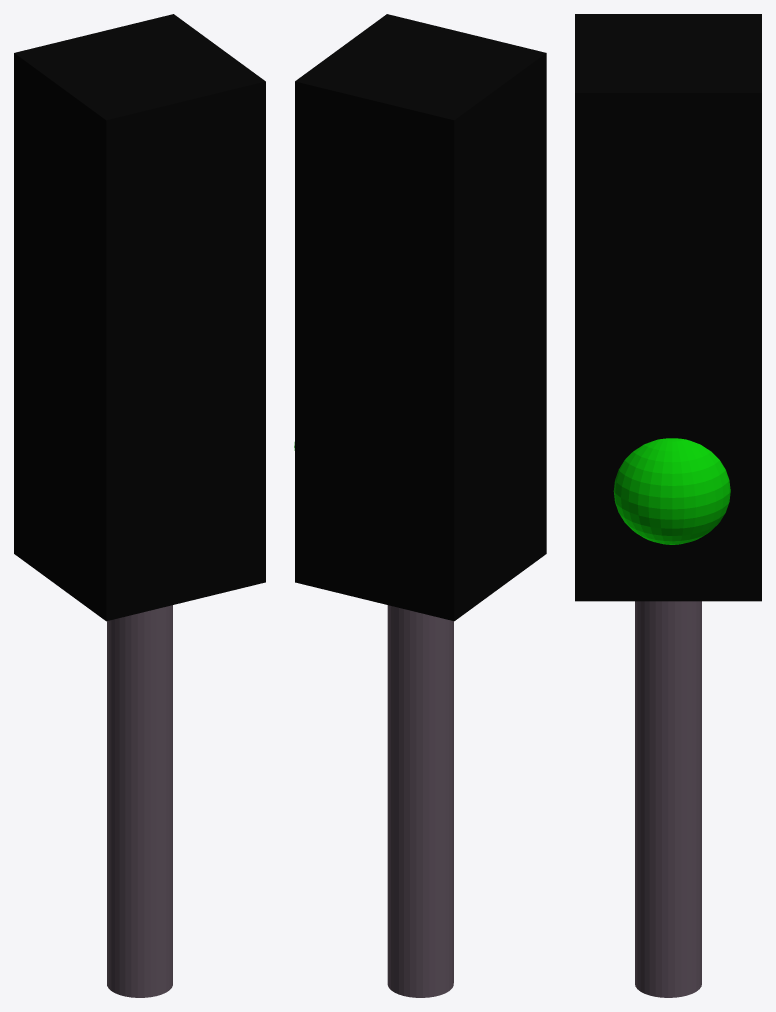
File: traffic_green.obj
3 renders of one model, left to right at view 1: azimuth 30°, elevation 25°; view 2: azimuth 150°, elevation 25°; view 3: azimuth 270°, elevation 25°, orthographic.
Visible parts, largest first — view 1: Cylinder; view 2: Cylinder; view 3: Cylinder.
Part boxes in pixels (x1=…): Cylinder: x1=14, y1=14, x2=265, y2=997; Cylinder: x1=294, y1=14, x2=546, y2=997; Cylinder: x1=575, y1=14, x2=761, y2=997.
Size of the model in its own units: 1.23 by 5.49 by 1.
